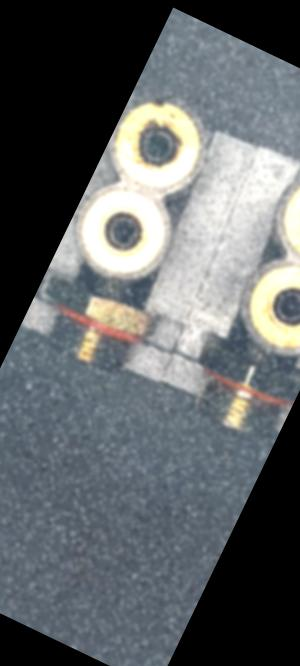bump: (146, 88, 177, 118)
craze: (250, 342, 270, 369), (102, 273, 123, 297)
